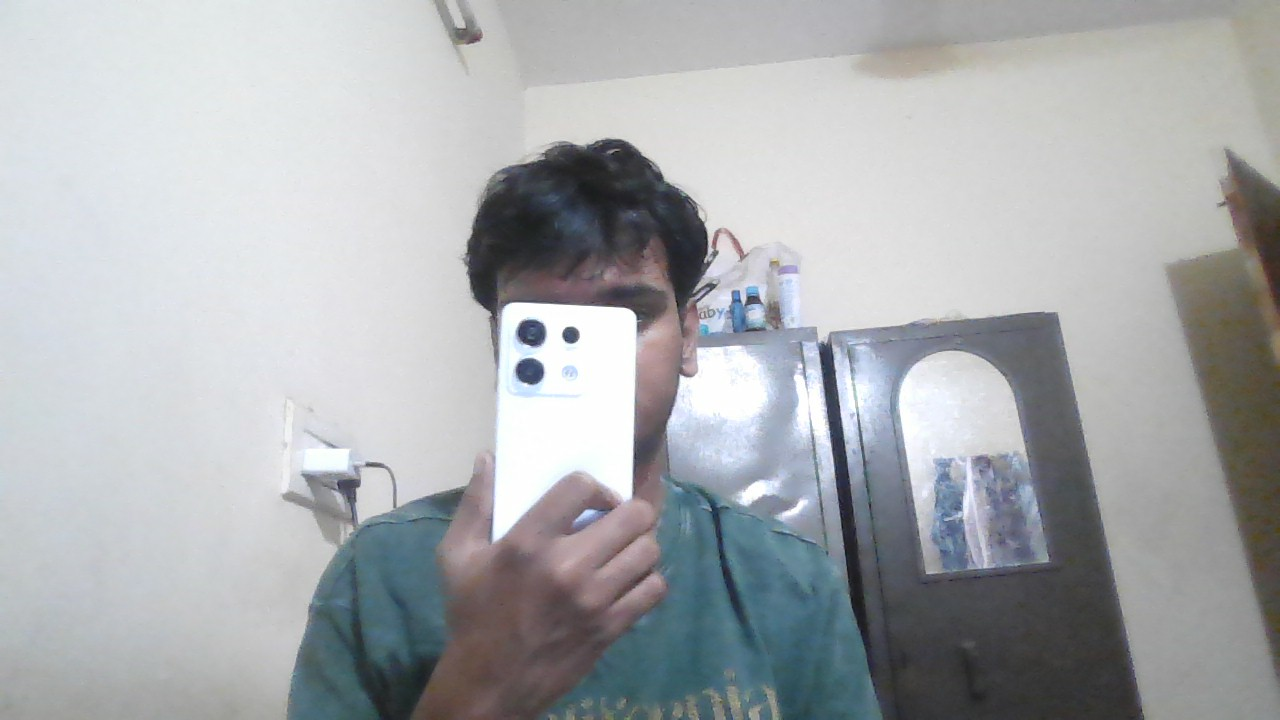phone: (498, 305, 640, 477)
